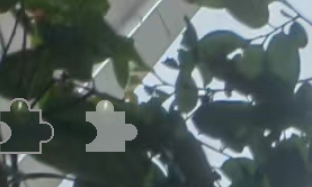target: (82, 96, 143, 157)
